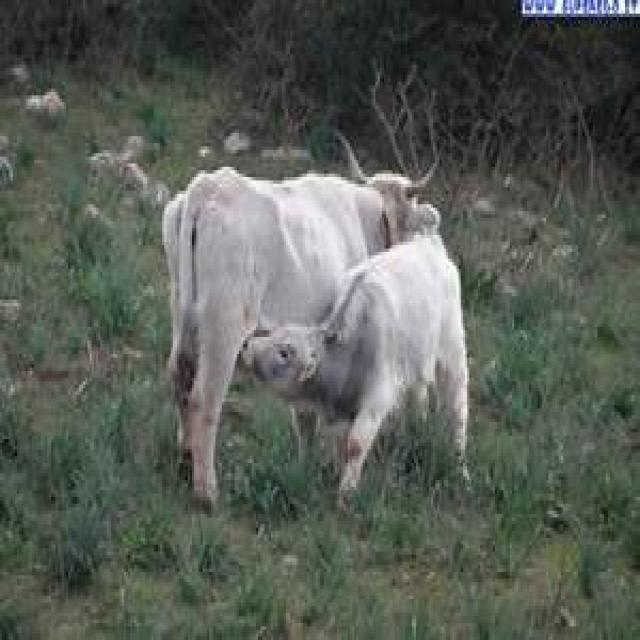cow: (162, 167, 439, 511), (243, 235, 469, 494)
